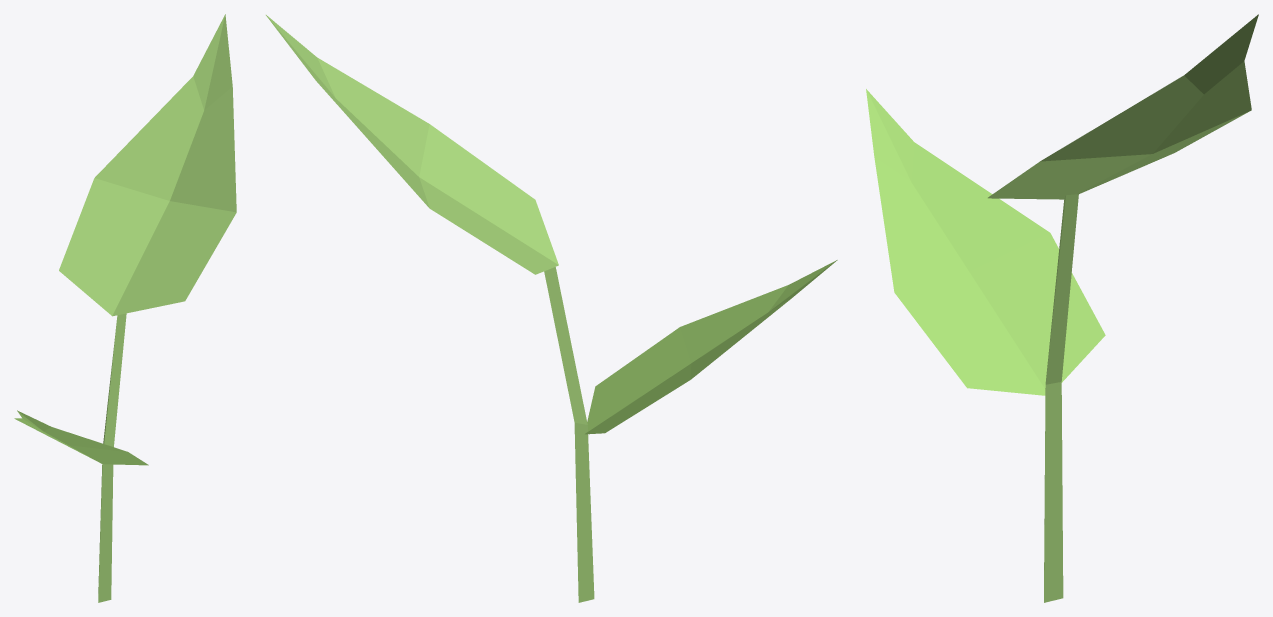
The model's file is Plant_f_TwoS_02.fbx.
3 renders of one model, left to right at view 1: azimuth 30°, elevation 25°; view 2: azimuth 150°, elevation 25°; view 3: azimuth 270°, elevation 25°, orthographic. The views are drawn at different scales.
Visible parts, largest first — view 1: Plant_f_TwoS_02; view 2: Plant_f_TwoS_02; view 3: Plant_f_TwoS_02.
Part boxes in pixels (bbox=[...]): Plant_f_TwoS_02: bbox=[14, 14, 236, 602]; Plant_f_TwoS_02: bbox=[266, 15, 837, 602]; Plant_f_TwoS_02: bbox=[866, 14, 1258, 602].
Bounding box in the file's own units: 31.64 × 43.24 × 21.26.
